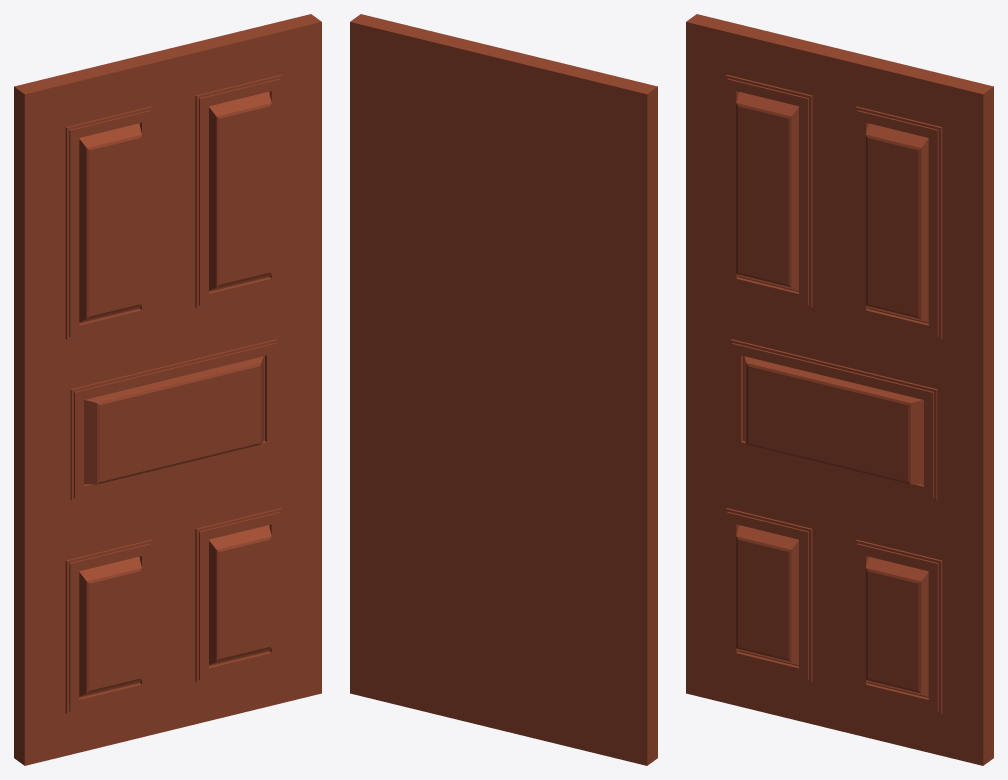
File: SM_door_06.fbx
3 views of the same model, side by side, from view 1: azimuth 30°, elevation 25°; view 2: azimuth 150°, elevation 25°; view 3: azimuth 330°, elevation 25° (orthographic).
Visible parts, largest first — view 1: Box5754; view 2: Box5754; view 3: Box5754.
Part boxes in pixels (x1=…): Box5754: x1=14, y1=14, x2=321, y2=765; Box5754: x1=350, y1=14, x2=657, y2=765; Box5754: x1=686, y1=14, x2=993, y2=765.
Size of the model in its own units: 39.45 by 85.21 by 3.94.
